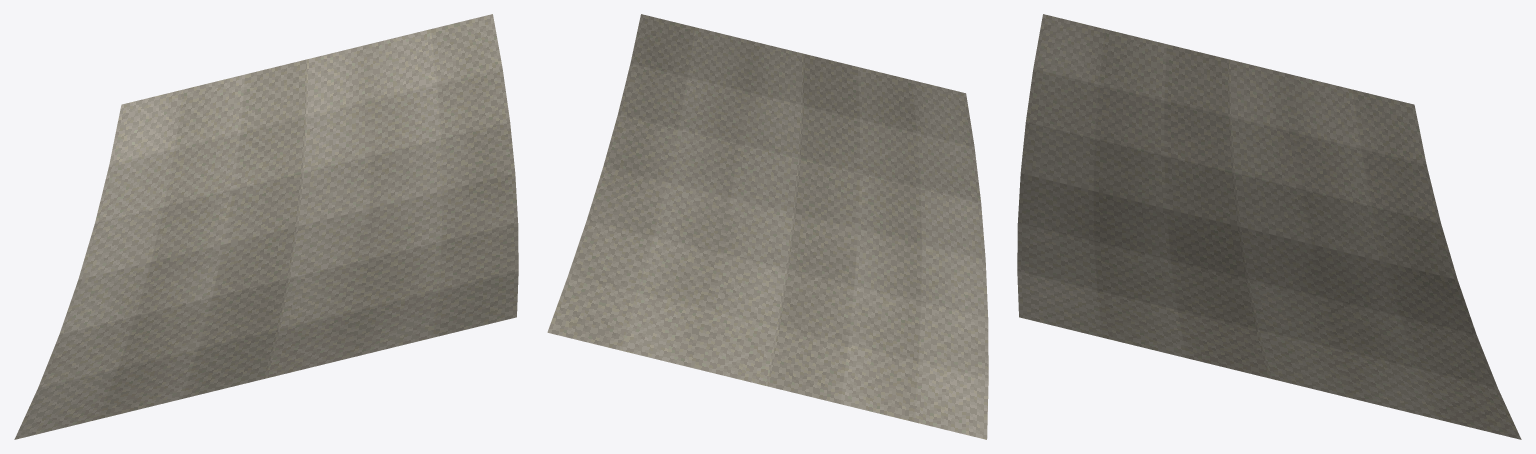
The model's file is tecido.glb.
The picture shows the model from 3 angles, left to right: view 1: azimuth 30°, elevation 25°; view 2: azimuth 150°, elevation 25°; view 3: azimuth 330°, elevation 25°; orthographic projection. The views are drawn at different scales.
Visible parts, largest first — view 1: Cloth_Fabric; view 2: Cloth_Fabric; view 3: Cloth_Fabric.
Part boxes in pixels (left/top/right/bottom): Cloth_Fabric: left=14, top=14, right=518, bottom=439; Cloth_Fabric: left=547, top=14, right=988, bottom=439; Cloth_Fabric: left=1017, top=14, right=1521, bottom=439.
Size of the model in its own units: 0.9775 by 0.65 by 0.14.
Materials: 1 (1 with a texture image).
